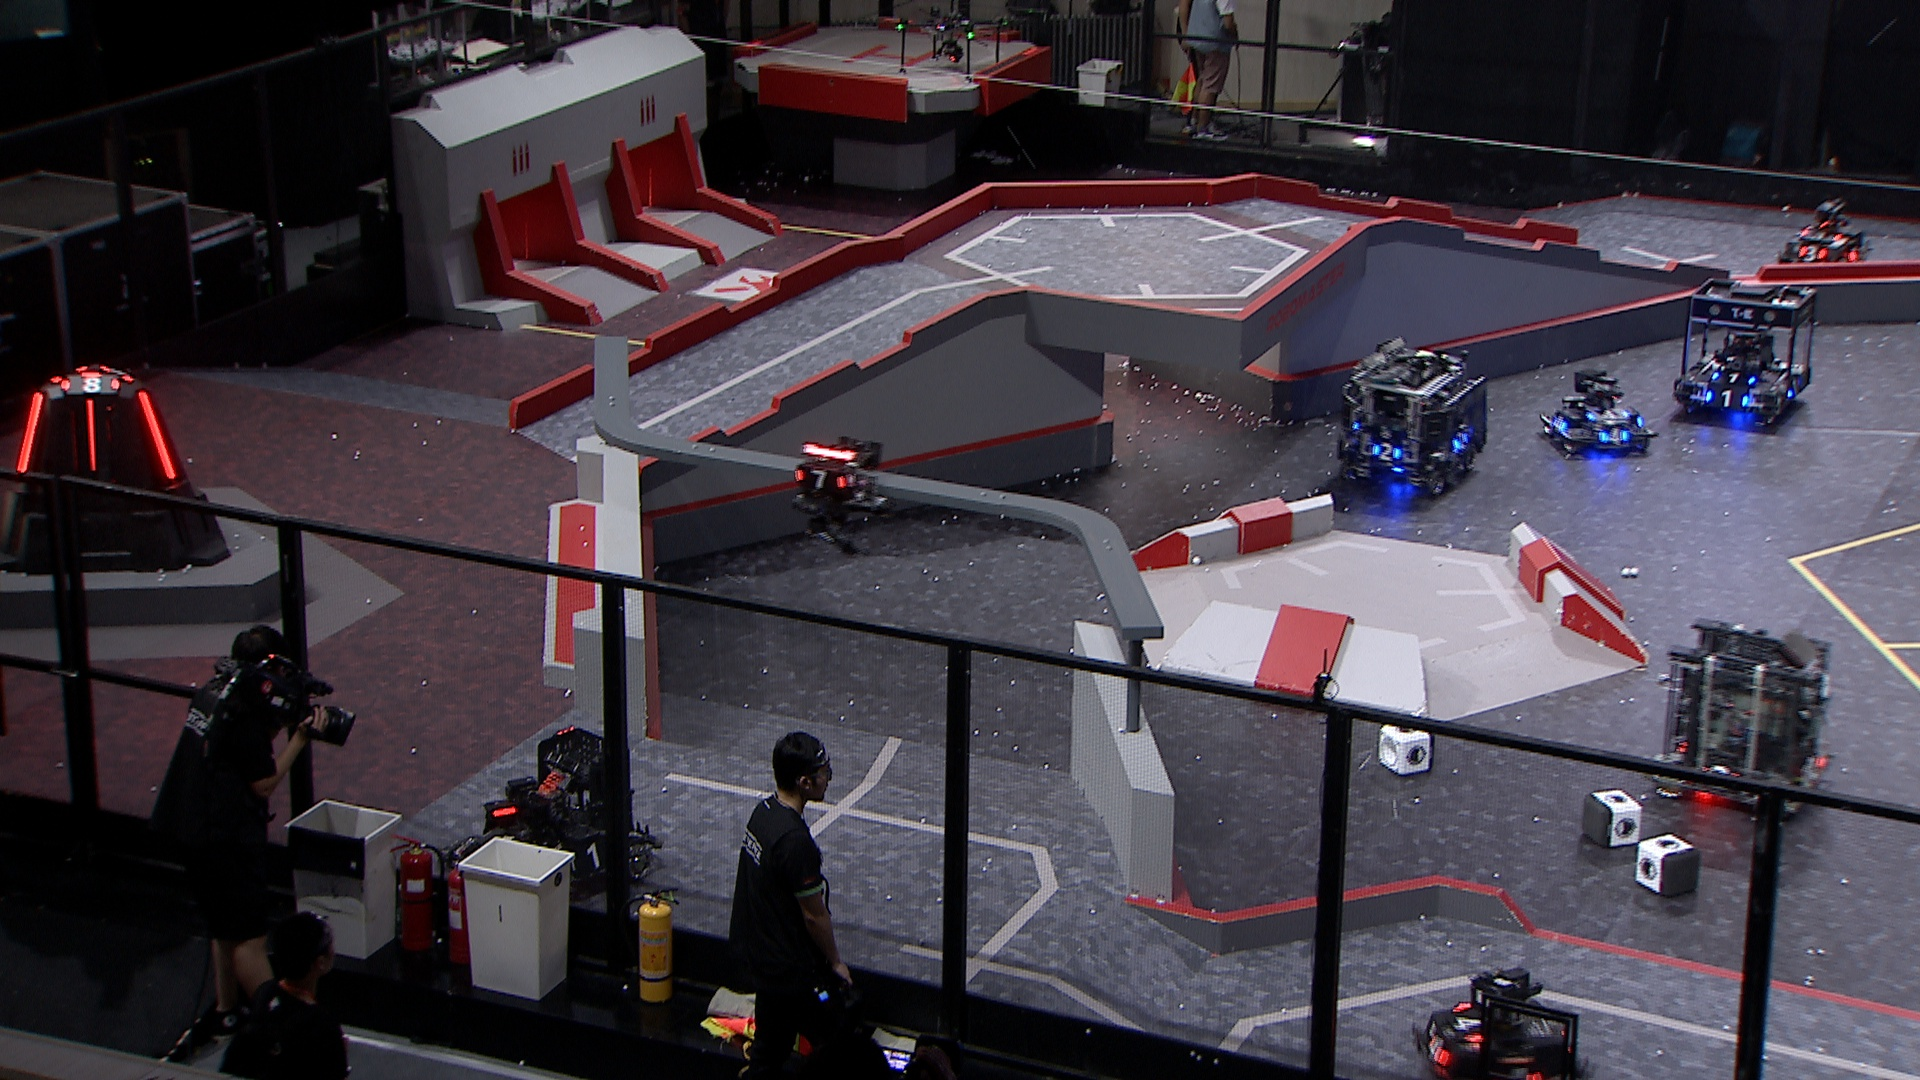armor: (136, 389, 175, 483), (13, 392, 45, 475), (59, 371, 124, 396), (1449, 1005, 1486, 1044), (82, 398, 100, 475), (793, 467, 851, 491), (568, 841, 609, 872), (1704, 386, 1750, 411), (1370, 440, 1404, 465), (1582, 407, 1633, 423), (1795, 243, 1830, 264), (1709, 371, 1756, 386), (1700, 764, 1741, 781), (1799, 228, 1845, 243), (1596, 429, 1631, 447), (1801, 754, 1826, 778), (1784, 377, 1807, 404), (1429, 1034, 1448, 1065), (1548, 414, 1571, 436), (1451, 429, 1472, 451)
car: (439, 725, 662, 907), (1642, 621, 1836, 818), (1335, 335, 1489, 498), (1408, 964, 1596, 1080), (1673, 276, 1817, 425), (1539, 368, 1658, 455), (1776, 200, 1873, 270)
watcher: (793, 436, 889, 553)
